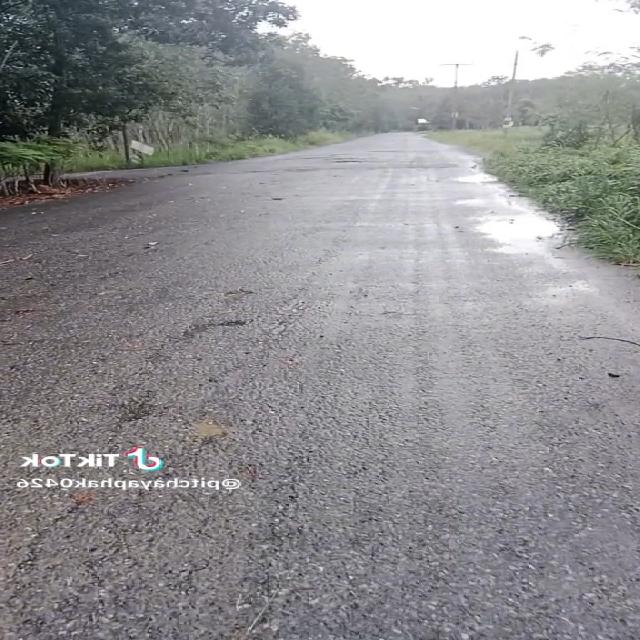Poth-hole: (156, 324, 275, 346)
